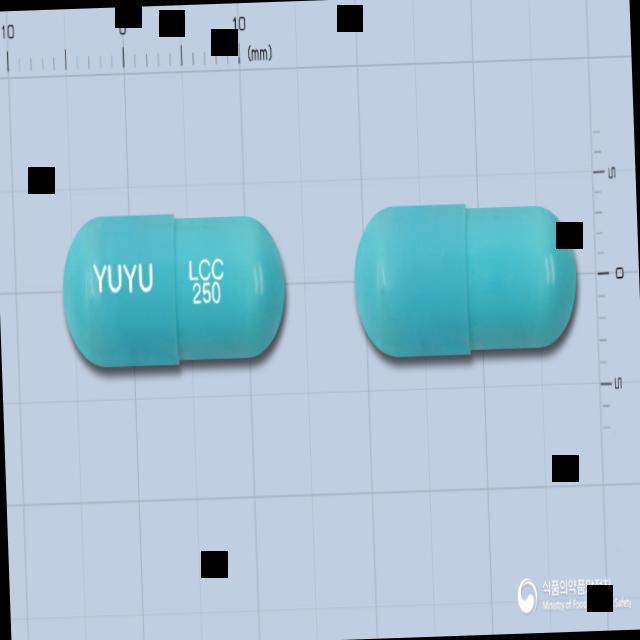Clamin: (59, 204, 290, 370), (352, 197, 580, 360)
